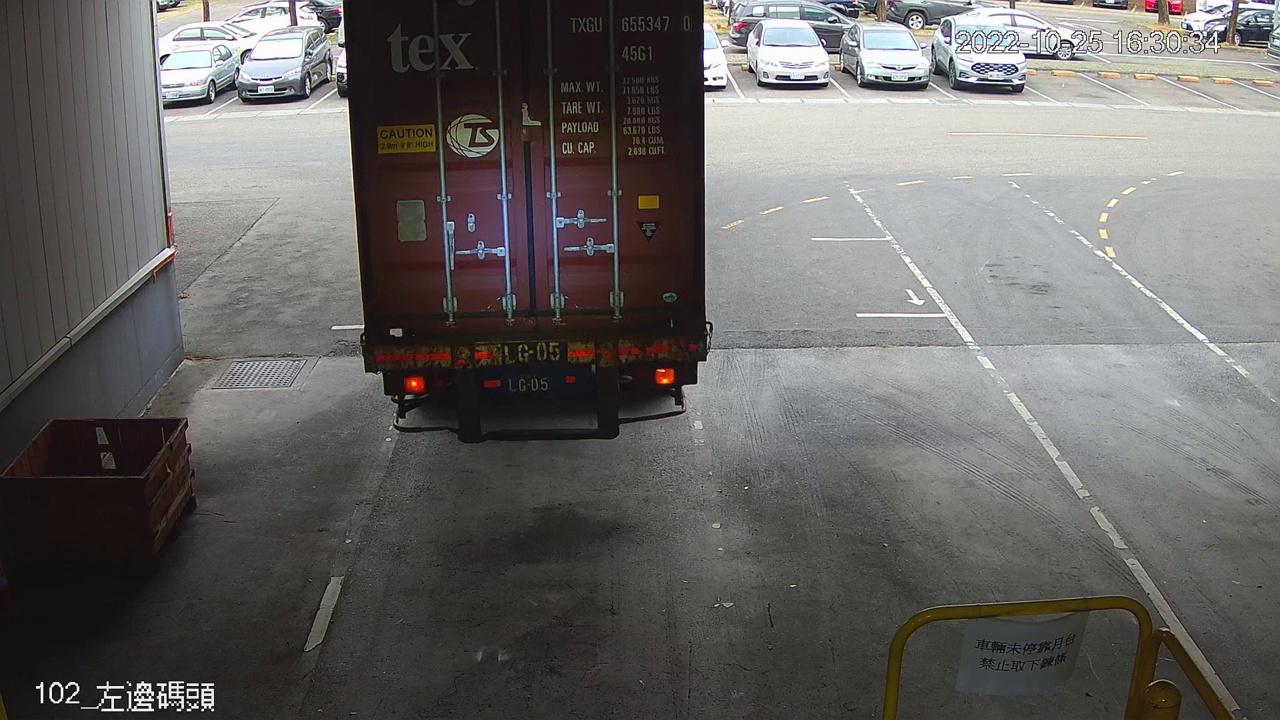container: (560, 6, 695, 69)
